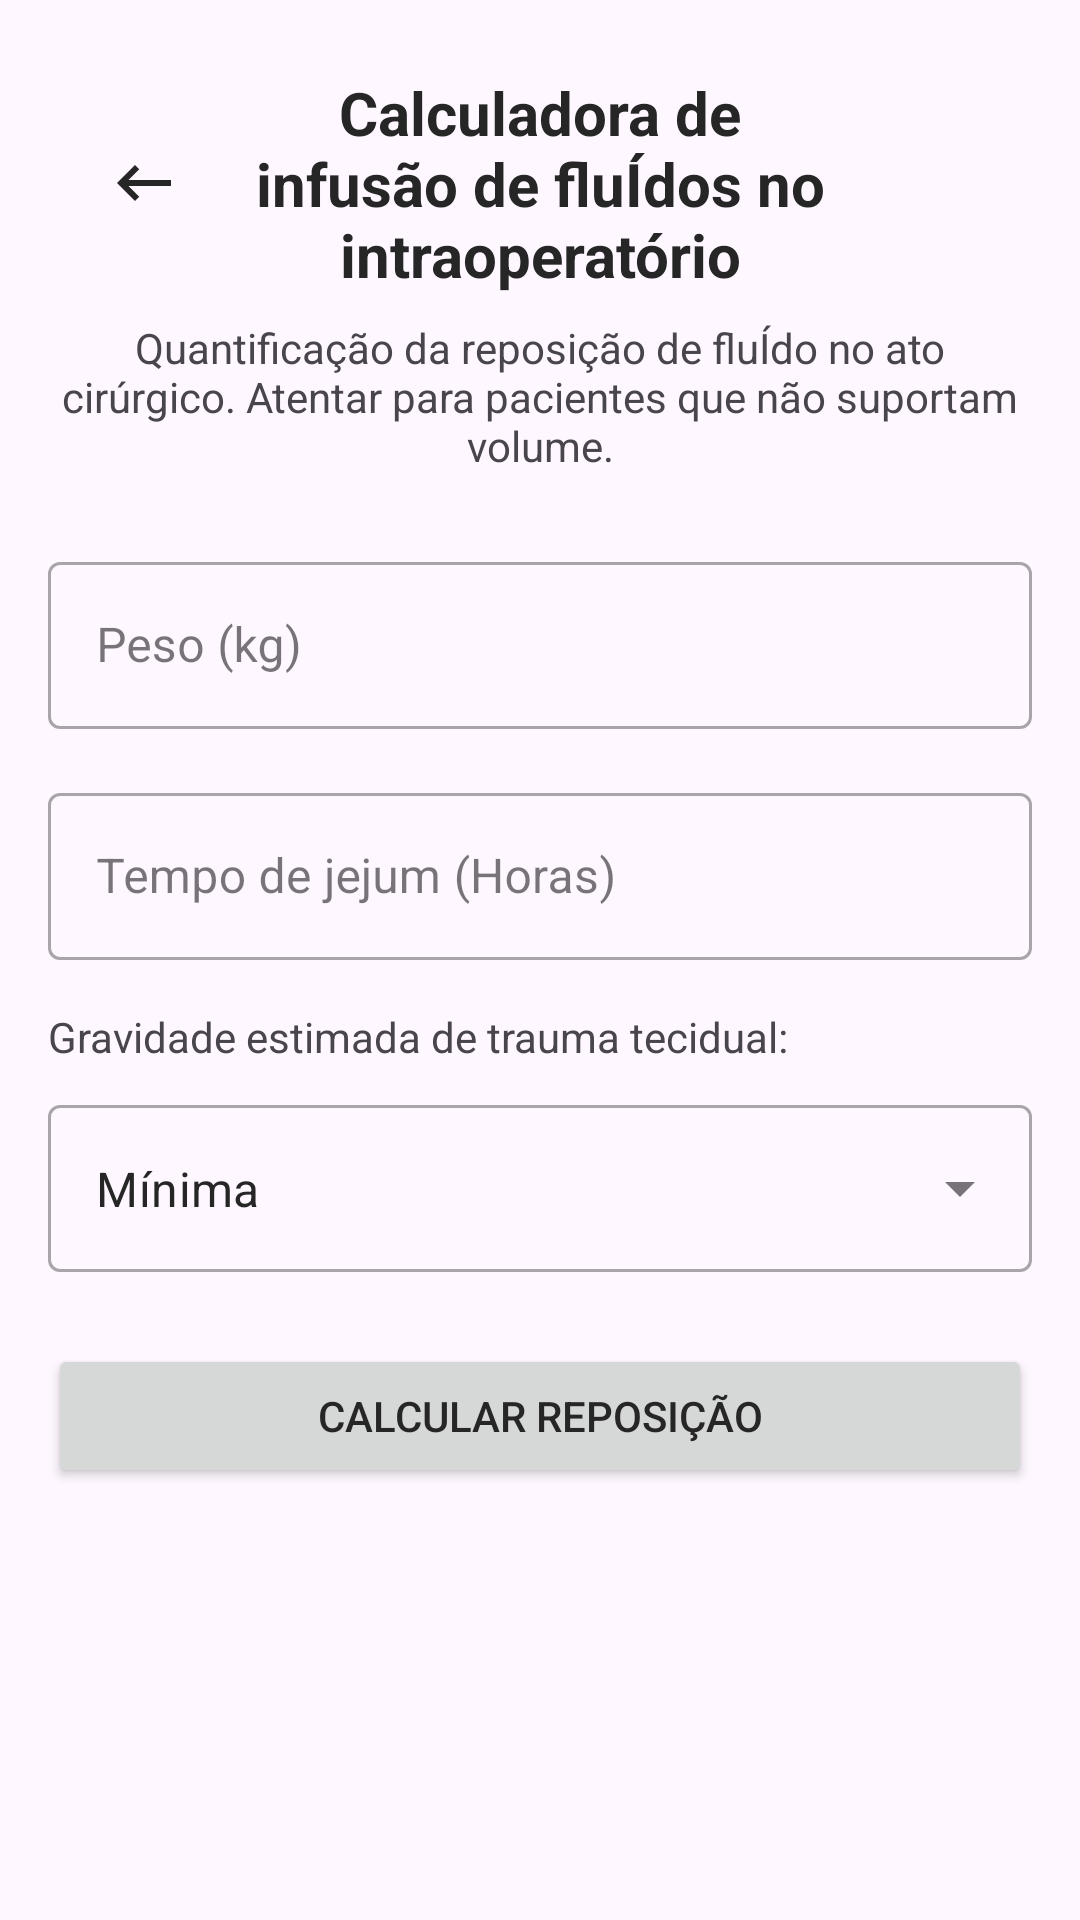

Icons on this 1080px x 1920px Android screen, each with its box as region(x1, y1, x2, y2):
Voltar: region(117, 165, 171, 201)
